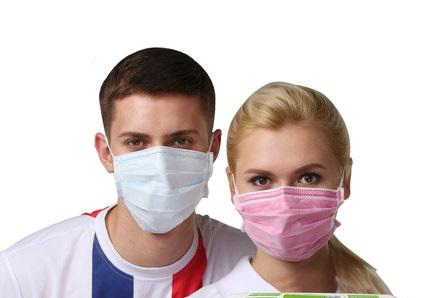OK: (231, 158, 343, 259), (110, 116, 216, 222)
